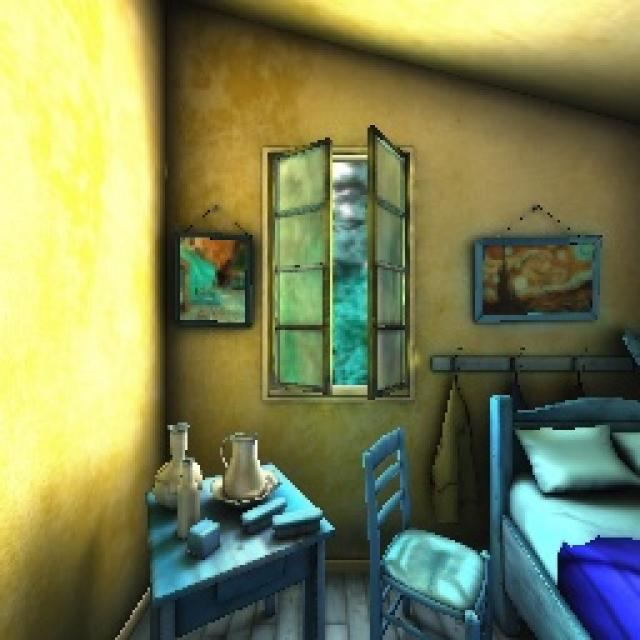bed: (472, 386, 640, 640)
chair: (336, 418, 494, 640)
table: (94, 433, 349, 640)
